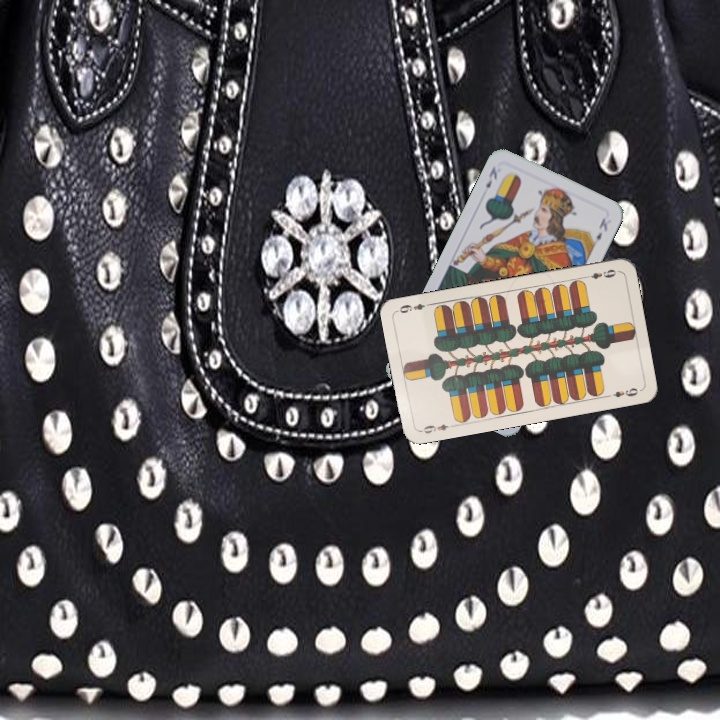E9: (580, 265, 620, 282), (416, 420, 457, 436)
EK: (482, 162, 500, 191)
